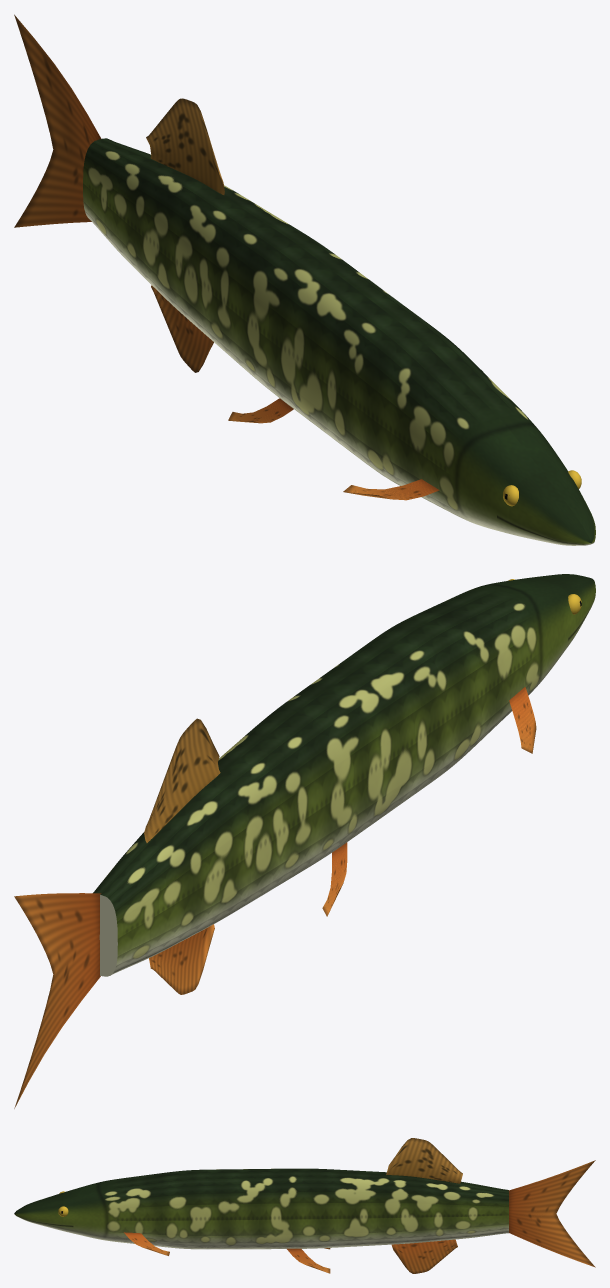
The model's file is pike.obj.
3 views of the same model, one above another, from view 1: azimuth 30°, elevation 25°; view 2: azimuth 150°, elevation 25°; view 3: azimuth 270°, elevation 25° (orthographic). The views are drawn at different scales.
Visible parts, largest first — view 1: pike_body, pike_fin_p, pike_fin_d; view 2: pike_body, pike_fin_p, pike_fin_d; view 3: pike_body, pike_fin_p, pike_fin_d.
Part boxes in pixels (x1,y1,x2,y2): pike_body: (83,138,595,545); pike_fin_p: (14,14,439,500); pike_fin_d: (146,98,224,194); pike_body: (93,574,595,976); pike_fin_p: (14,687,536,1108); pike_fin_d: (144,718,220,842); pike_body: (14,1168,508,1249); pike_fin_p: (124,1160,595,1273); pike_fin_d: (386,1138,462,1183).
Bounding box in the file's own units: 0.1897 × 0.2576 × 0.9996.
5 materials, 3 textured.
